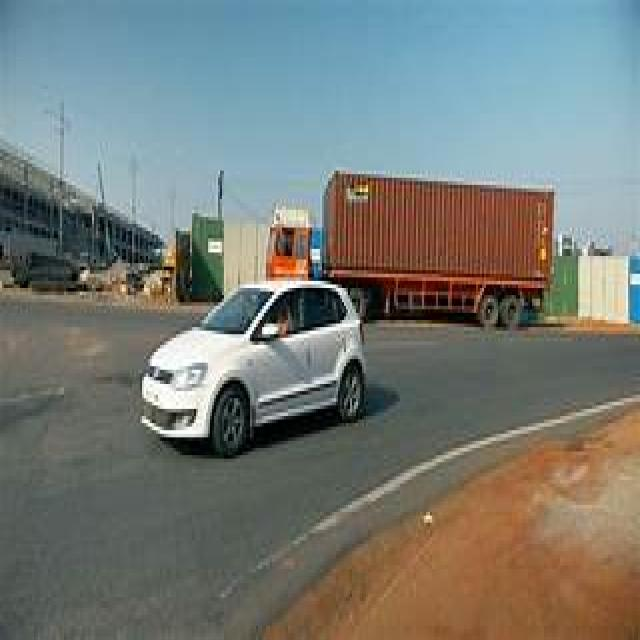Car: (142, 284, 366, 454)
Truck: (268, 171, 552, 326)
